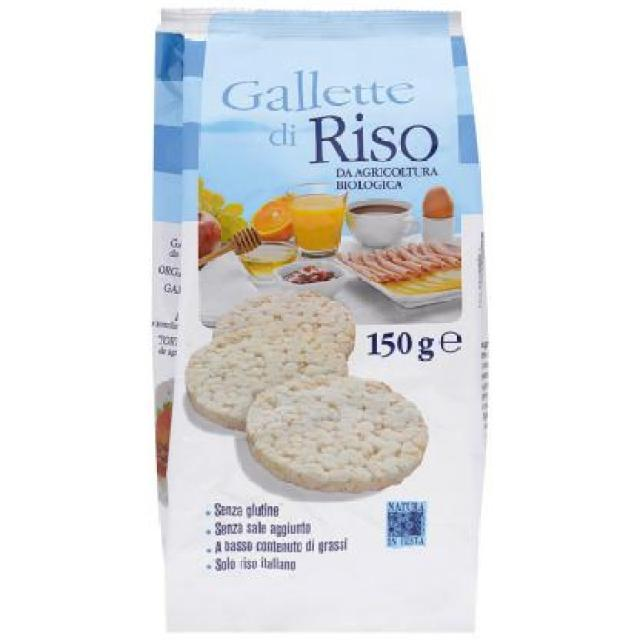Gallette di riso: (137, 4, 499, 640)
